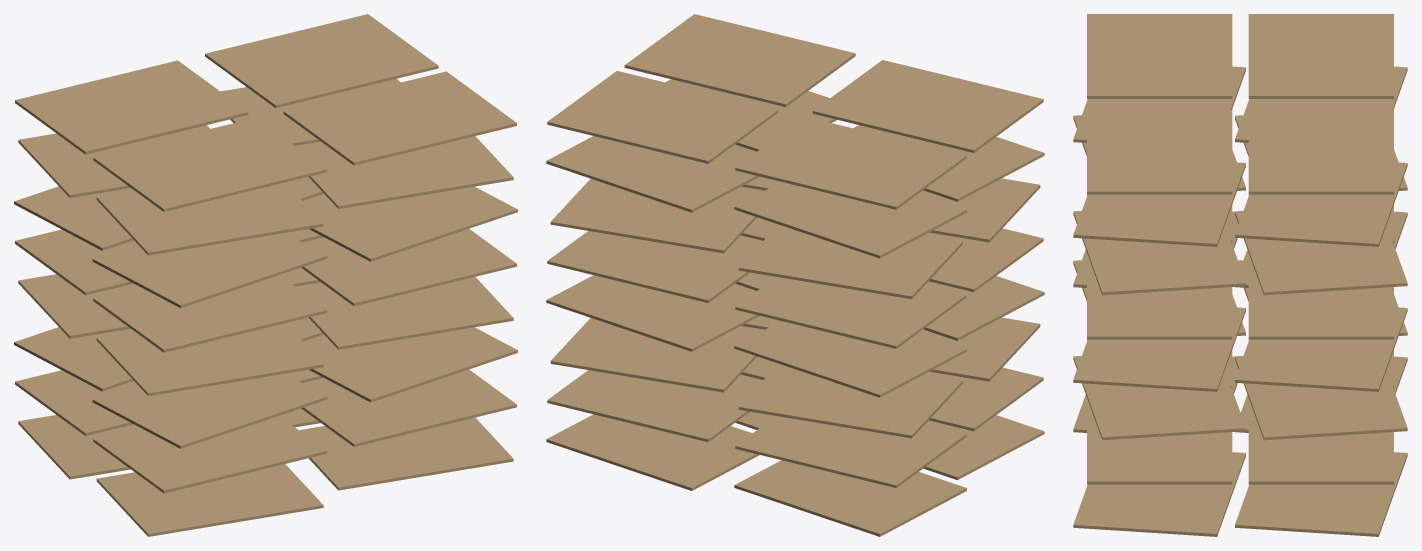
The model's file is paper.glb.
The picture shows the model from 3 angles, left to right: view 1: azimuth 30°, elevation 25°; view 2: azimuth 150°, elevation 25°; view 3: azimuth 270°, elevation 25°; orthographic projection. The views are drawn at different scales.
Visible parts, largest first — view 1: LooseSheet_3_7, LooseSheet_0_7, LooseSheet_1_7, LooseSheet_2_7, LooseSheet_2_3, LooseSheet_2_6, LooseSheet_2_0, LooseSheet_2_5, LooseSheet_2_2, LooseSheet_2_4, LooseSheet_2_1, LooseSheet_3_0 (+16 smaller); view 2: LooseSheet_3_7, LooseSheet_0_7, LooseSheet_1_7, LooseSheet_2_7, LooseSheet_0_4, LooseSheet_0_1, LooseSheet_0_5, LooseSheet_0_2, LooseSheet_0_6, LooseSheet_0_0, LooseSheet_0_3, LooseSheet_1_4 (+16 smaller); view 3: LooseSheet_1_7, LooseSheet_3_7, LooseSheet_0_7, LooseSheet_2_7, LooseSheet_3_0, LooseSheet_3_3, LooseSheet_3_6, LooseSheet_1_0, LooseSheet_1_6, LooseSheet_1_3, LooseSheet_1_4, LooseSheet_1_1 (+12 smaller).
Boxes of the visible parts, x1,y1,x2,y2 form: LooseSheet_3_7: [283, 71, 516, 165]; LooseSheet_0_7: [15, 60, 248, 154]; LooseSheet_1_7: [205, 14, 438, 107]; LooseSheet_2_7: [93, 118, 326, 211]; LooseSheet_2_3: [96, 323, 323, 396]; LooseSheet_2_6: [96, 182, 323, 255]; LooseSheet_2_0: [96, 464, 323, 536]; LooseSheet_2_5: [92, 233, 327, 308]; LooseSheet_2_2: [92, 373, 327, 448]; LooseSheet_2_4: [93, 275, 326, 352]; LooseSheet_2_1: [93, 416, 326, 493]; LooseSheet_3_0: [299, 417, 513, 490]; LooseSheet_3_7: [624, 14, 855, 106]; LooseSheet_0_7: [735, 116, 966, 209]; LooseSheet_1_7: [547, 71, 778, 163]; LooseSheet_2_7: [812, 60, 1043, 152]; LooseSheet_0_4: [735, 277, 966, 348]; LooseSheet_0_1: [735, 416, 966, 487]; LooseSheet_0_5: [738, 224, 962, 299]; LooseSheet_0_2: [738, 364, 962, 438]; LooseSheet_0_6: [734, 182, 966, 258]; LooseSheet_0_0: [734, 460, 966, 536]; LooseSheet_0_3: [734, 321, 966, 397]; LooseSheet_1_4: [547, 231, 759, 302]; LooseSheet_1_7: [1248, 109, 1393, 194]; LooseSheet_3_7: [1087, 109, 1232, 194]; LooseSheet_0_7: [1248, 14, 1393, 98]; LooseSheet_2_7: [1087, 14, 1232, 98]; LooseSheet_3_0: [1073, 452, 1245, 536]; LooseSheet_3_3: [1073, 307, 1245, 391]; LooseSheet_3_6: [1073, 162, 1245, 246]; LooseSheet_1_0: [1235, 452, 1407, 536]; LooseSheet_1_6: [1235, 162, 1407, 246]; LooseSheet_1_3: [1235, 307, 1407, 391]; LooseSheet_1_4: [1248, 255, 1393, 339]; LooseSheet_1_1: [1248, 400, 1393, 484].
Size of what is drawn, in the model's own units: 0.2721 by 0.233 by 0.2069.
